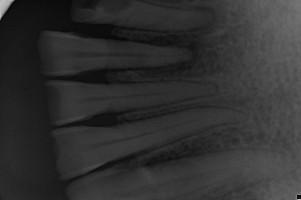Furcation Involvement: (131, 32, 224, 79), (188, 4, 219, 32)
